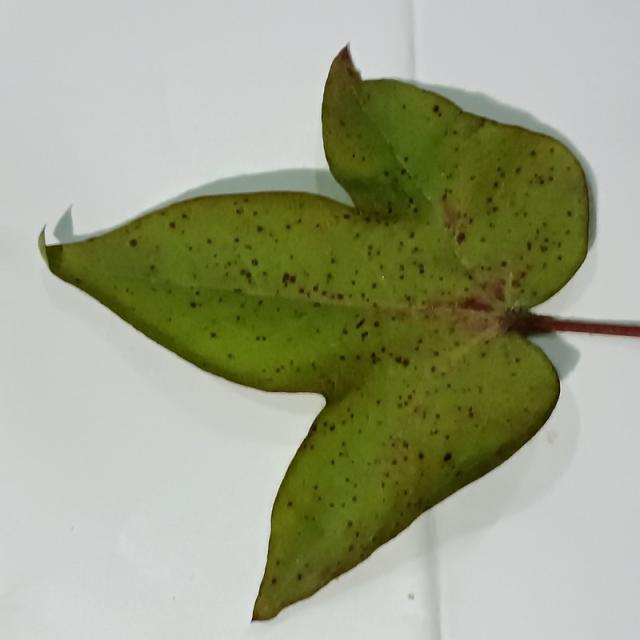Bacterial_Blight: (418, 413, 513, 487), (457, 293, 504, 314), (322, 375, 338, 397), (281, 272, 296, 286), (345, 63, 357, 80), (326, 253, 339, 267), (239, 268, 251, 281), (547, 430, 558, 443), (147, 273, 159, 284), (456, 231, 466, 244), (308, 422, 318, 435), (295, 285, 306, 296), (355, 318, 366, 329), (400, 356, 410, 367), (394, 355, 404, 365), (232, 287, 244, 295), (511, 279, 521, 288), (443, 452, 452, 462), (370, 353, 378, 364), (421, 408, 428, 420), (129, 238, 138, 247), (361, 331, 369, 341), (538, 176, 546, 185), (468, 406, 474, 418), (73, 276, 82, 284), (418, 264, 425, 274), (333, 575, 340, 585), (540, 244, 548, 252), (251, 258, 259, 266), (276, 365, 284, 373), (402, 440, 409, 449), (433, 104, 440, 113), (526, 241, 532, 251), (312, 284, 319, 292), (336, 293, 344, 300), (373, 320, 380, 328), (256, 225, 263, 233), (343, 213, 351, 220), (417, 452, 424, 460), (169, 221, 176, 229), (515, 166, 522, 174), (244, 243, 252, 250), (367, 244, 373, 253), (387, 206, 393, 215), (342, 328, 349, 335), (190, 301, 197, 308), (233, 236, 240, 243), (235, 208, 242, 215), (400, 168, 407, 175), (479, 236, 486, 243), (430, 365, 436, 373), (409, 231, 415, 239), (311, 361, 317, 369), (408, 197, 414, 205), (296, 573, 302, 581), (271, 577, 277, 585), (371, 535, 376, 544), (329, 424, 335, 431), (339, 355, 346, 361), (371, 282, 377, 289), (501, 260, 507, 267), (360, 292, 366, 299), (206, 238, 212, 245), (181, 213, 188, 219), (492, 206, 498, 213), (287, 500, 293, 507), (493, 181, 499, 188), (313, 484, 319, 491), (347, 520, 353, 527), (149, 264, 155, 271), (348, 545, 354, 552), (227, 353, 234, 359), (383, 170, 389, 177), (275, 559, 281, 566), (441, 171, 447, 178), (408, 593, 414, 600), (258, 336, 266, 341), (392, 459, 398, 465), (444, 434, 450, 440), (285, 224, 291, 230), (435, 413, 441, 419), (210, 332, 216, 338), (403, 156, 409, 162), (530, 150, 536, 156), (329, 502, 335, 508), (452, 129, 458, 135), (352, 495, 357, 502), (567, 210, 572, 217), (376, 399, 381, 405), (330, 459, 335, 465), (345, 478, 350, 484), (355, 531, 360, 537), (195, 291, 201, 296), (351, 153, 356, 159), (550, 147, 555, 153), (380, 274, 385, 280), (557, 255, 562, 260), (296, 558, 300, 564)
Cotton: (38, 48, 589, 620)
